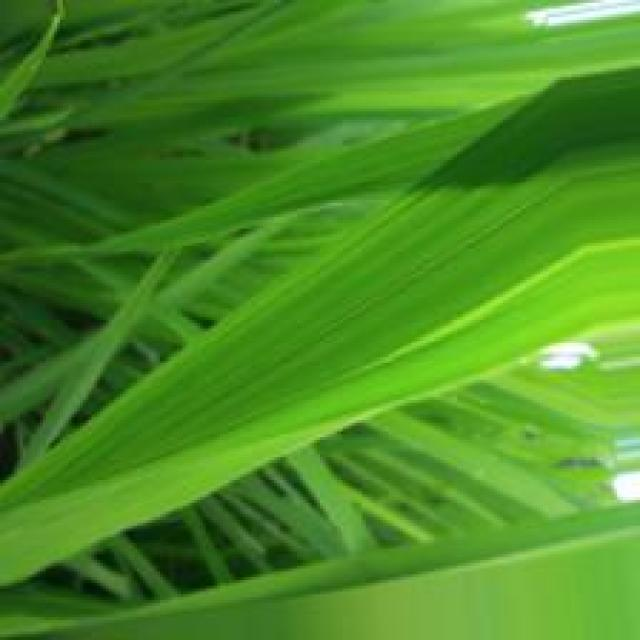HealthyLeaf: (0, 66, 640, 595), (0, 496, 637, 640)
